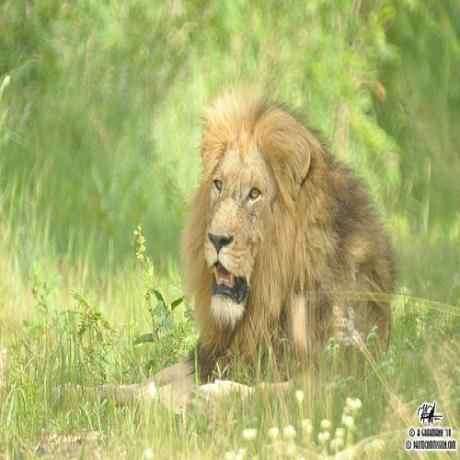Lion: (182, 96, 391, 405)
